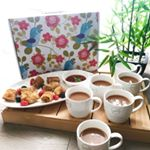cups: (74, 118, 127, 150), (102, 88, 145, 125), (64, 85, 102, 120), (116, 70, 150, 94)
